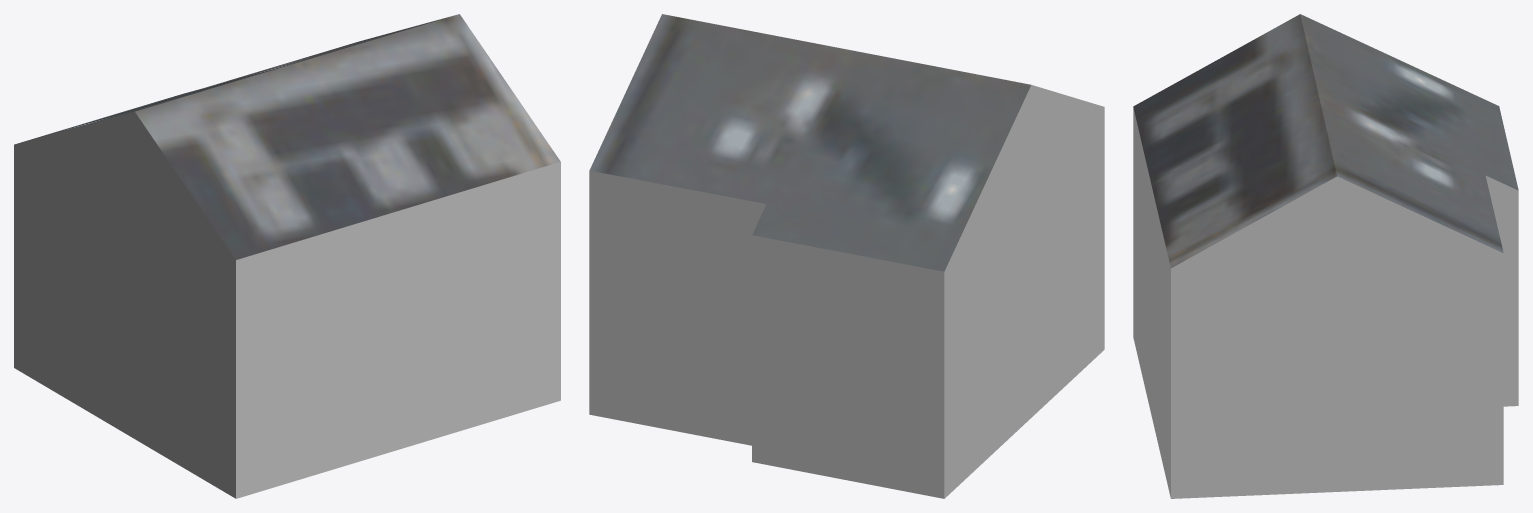
File: DEBW_0010007TxdL.gltf
3 views of the same model, side by side, from view 1: azimuth 30°, elevation 25°; view 2: azimuth 150°, elevation 25°; view 3: azimuth 270°, elevation 25° (orthographic). The views are drawn at different scales.
Parts seen in each view (by area): view 1: Z_UP; view 2: Z_UP; view 3: Z_UP.
Part boxes in pixels (left/top/right/bottom): Z_UP: left=14, top=14, right=560, bottom=498; Z_UP: left=589, top=14, right=1104, bottom=498; Z_UP: left=1133, top=14, right=1518, bottom=498.
Bounding box in the file's own units: 12.01 × 9.98 × 11.04.
Materials: 2 (1 with a texture image).
